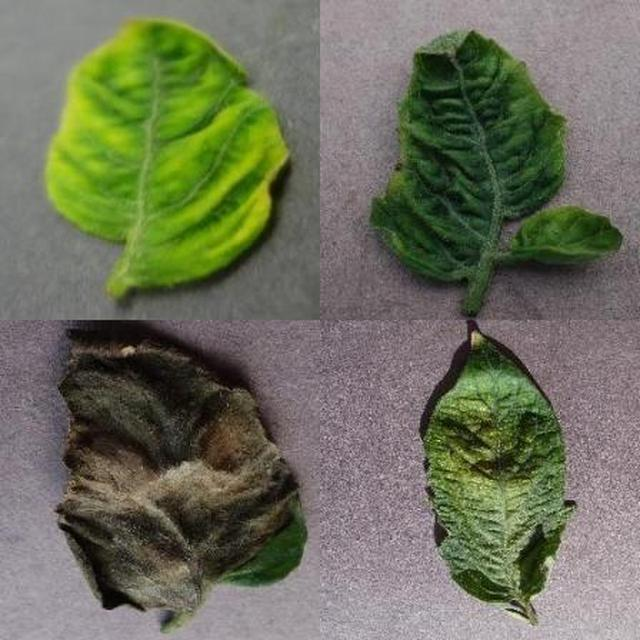Yellow Leaf Curl Virus: (153, 80, 640, 640)
